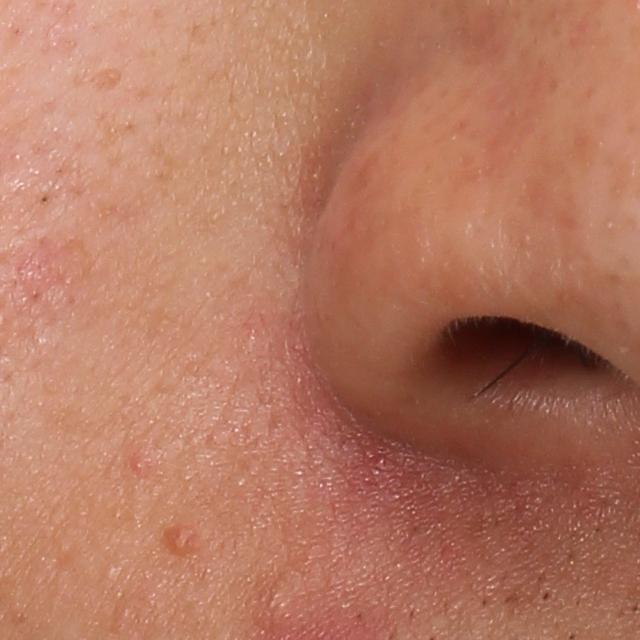atrophic_scar: (85, 66, 126, 98)
papule: (161, 522, 198, 557), (128, 450, 152, 475)
